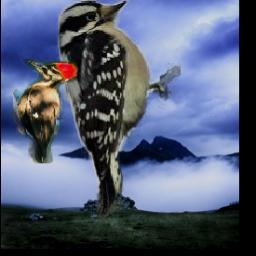Woodpecker: (54, 0, 181, 219), (10, 60, 77, 164)
